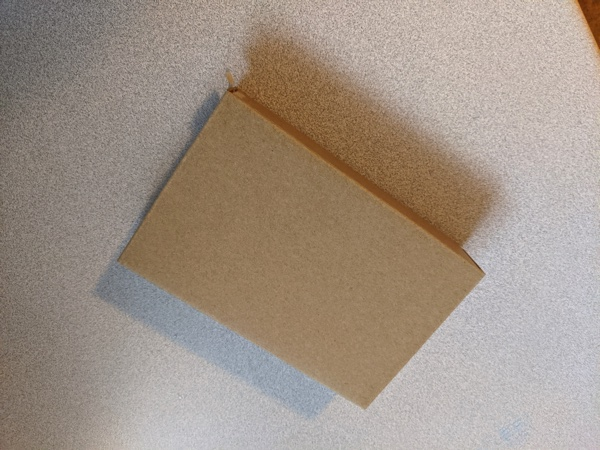cardboard: (106, 77, 500, 428)
